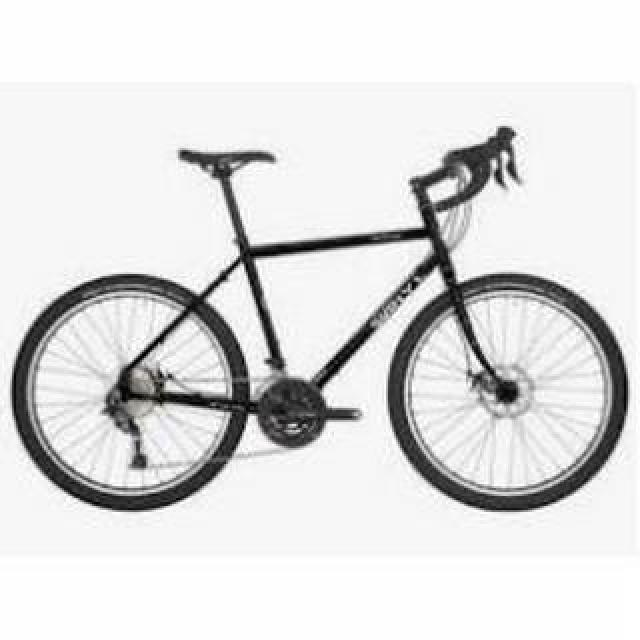Person: (11, 125, 635, 527)
